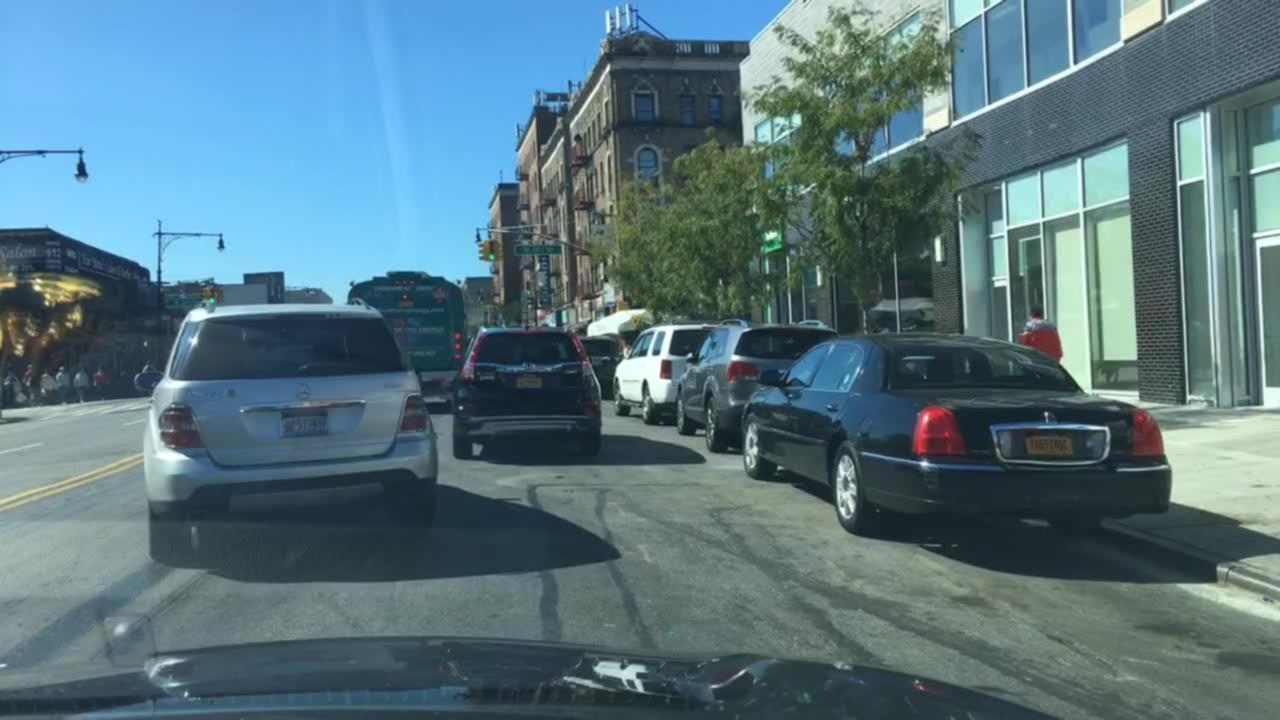Honda: (521, 362, 539, 376)
Mercedes: (286, 380, 323, 406)
lincoln: (1040, 402, 1055, 429)
